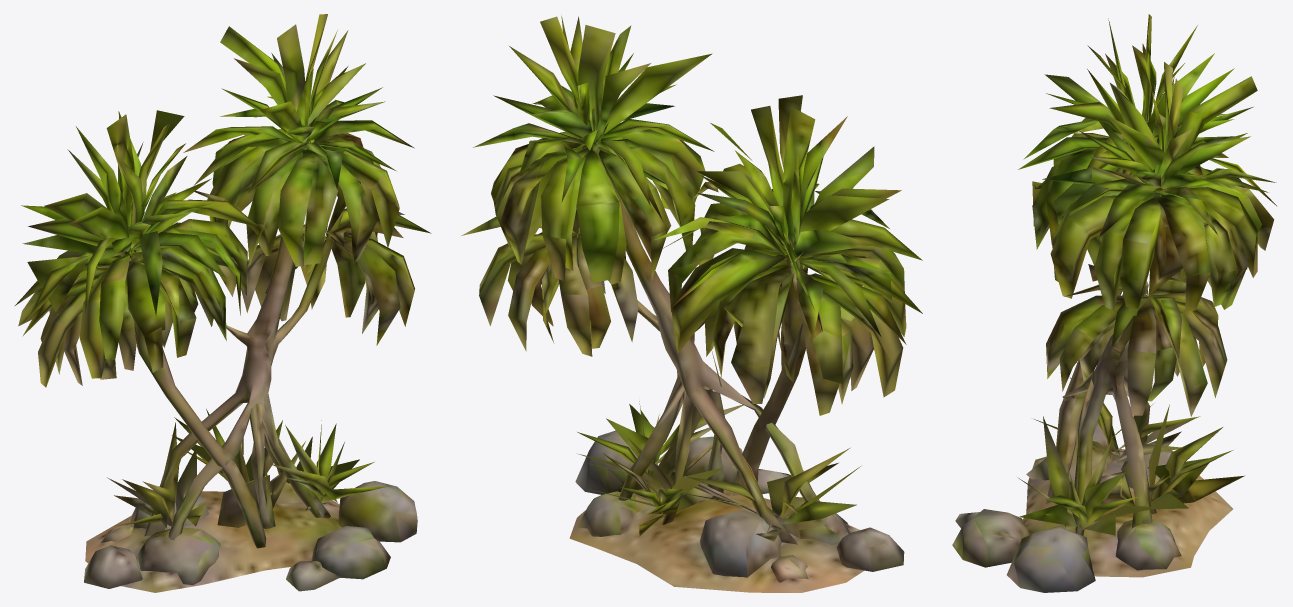
Rendered from tree_04.glb.
The picture shows the model from 3 angles, left to right: view 1: azimuth 30°, elevation 25°; view 2: azimuth 150°, elevation 25°; view 3: azimuth 270°, elevation 25°; orthographic projection. The views are drawn at different scales.
Visible parts, largest first — view 1: tree_04; view 2: tree_04; view 3: tree_04.
Boxes of the visible parts, bbox=[...] form: tree_04: bbox=[15, 14, 431, 592]; tree_04: bbox=[461, 16, 922, 592]; tree_04: bbox=[952, 14, 1276, 592].
Size of the model in its own units: 5.34 by 6 by 3.54.
1 material, 1 textured.
